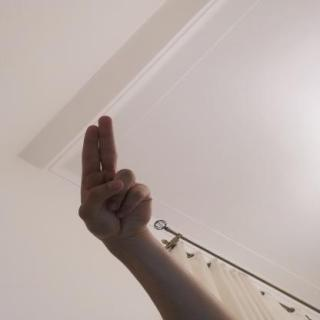TA: (64, 107, 161, 248)
